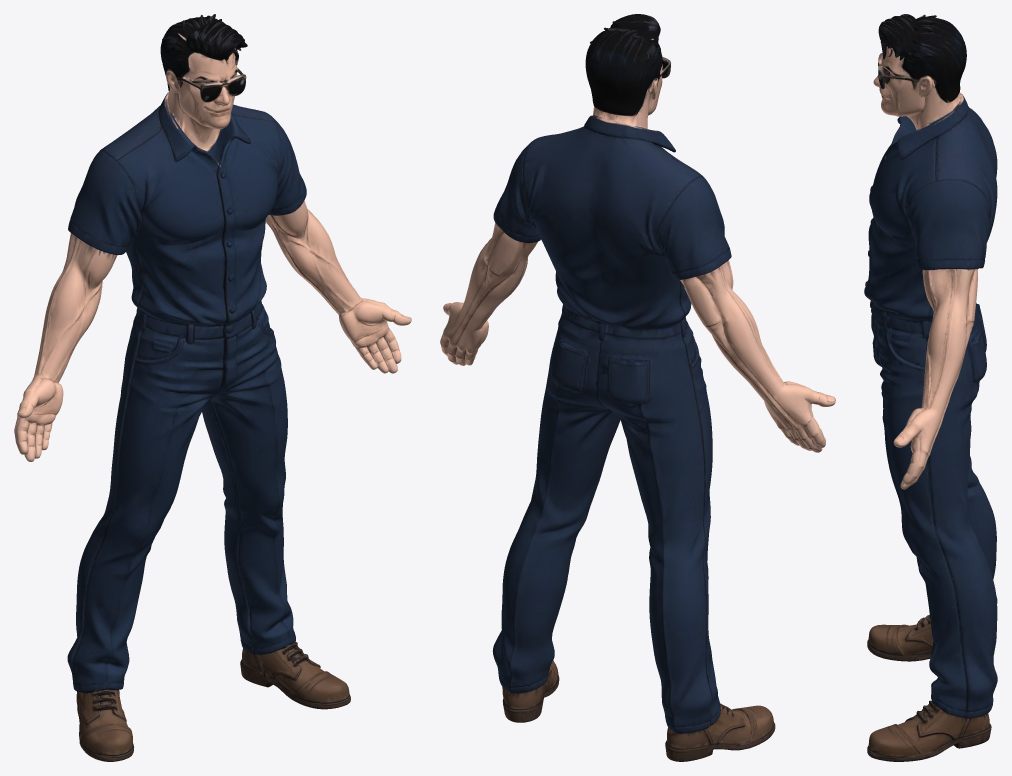
The model's file is pflash.glb.
3 views of the same model, side by side, from view 1: azimuth 30°, elevation 25°; view 2: azimuth 150°, elevation 25°; view 3: azimuth 270°, elevation 25° (orthographic).
Size of the model in its own units: 1.12 by 1.9 by 0.3361.
Materials: 1 (1 with a texture image).
